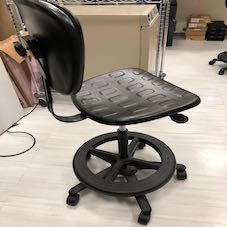chair: (4, 0, 209, 217)
